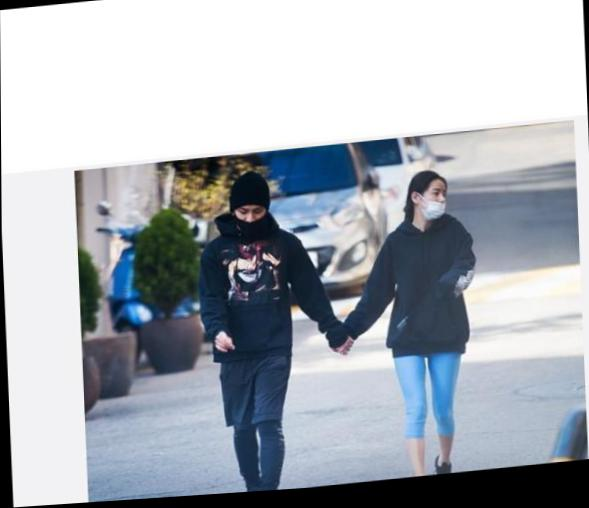WRONG: (234, 207, 265, 242), (421, 187, 447, 228)
